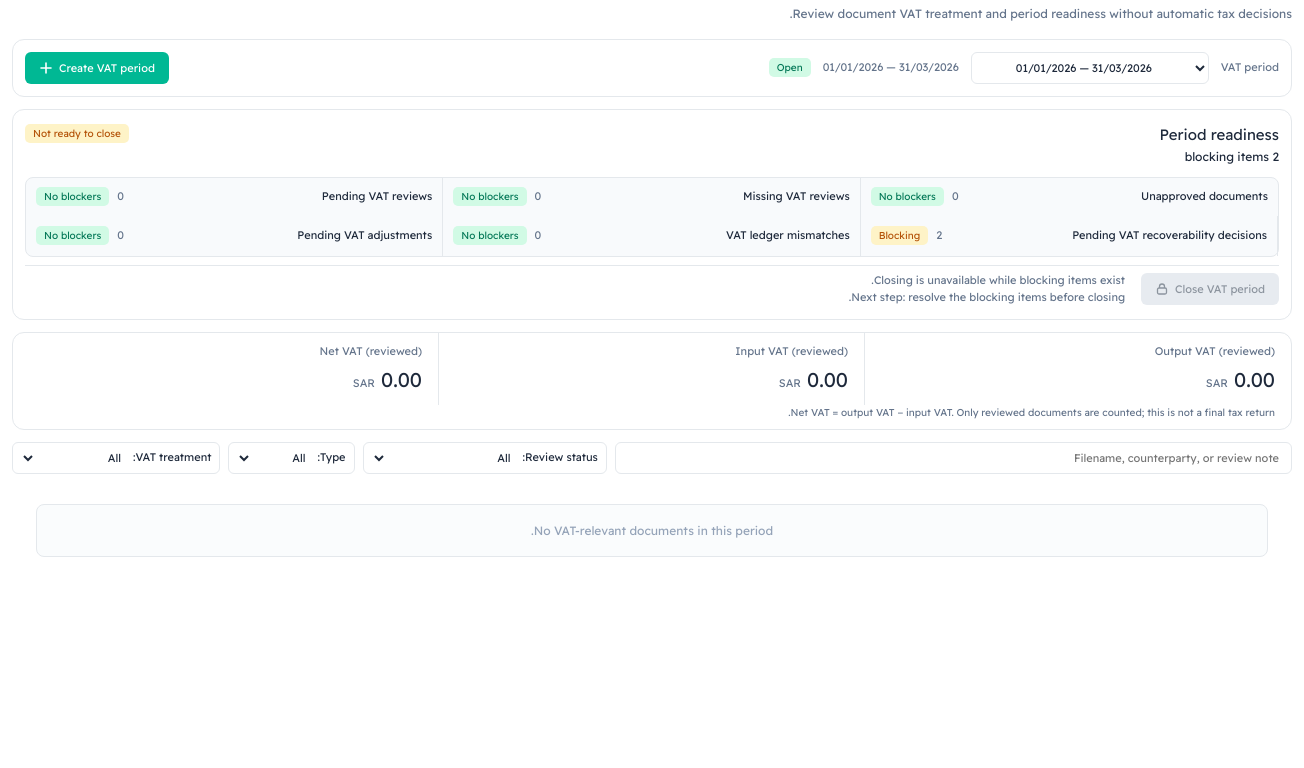
Test case: VAT review workspace › does not auto-select a document when several are pending recoverability
The width and height of the screenshot is (1304, 768).
Click the button "Pending VAT recoverability decisions" at (1109, 236), box [950,216,1267,256]
(page scrolled)
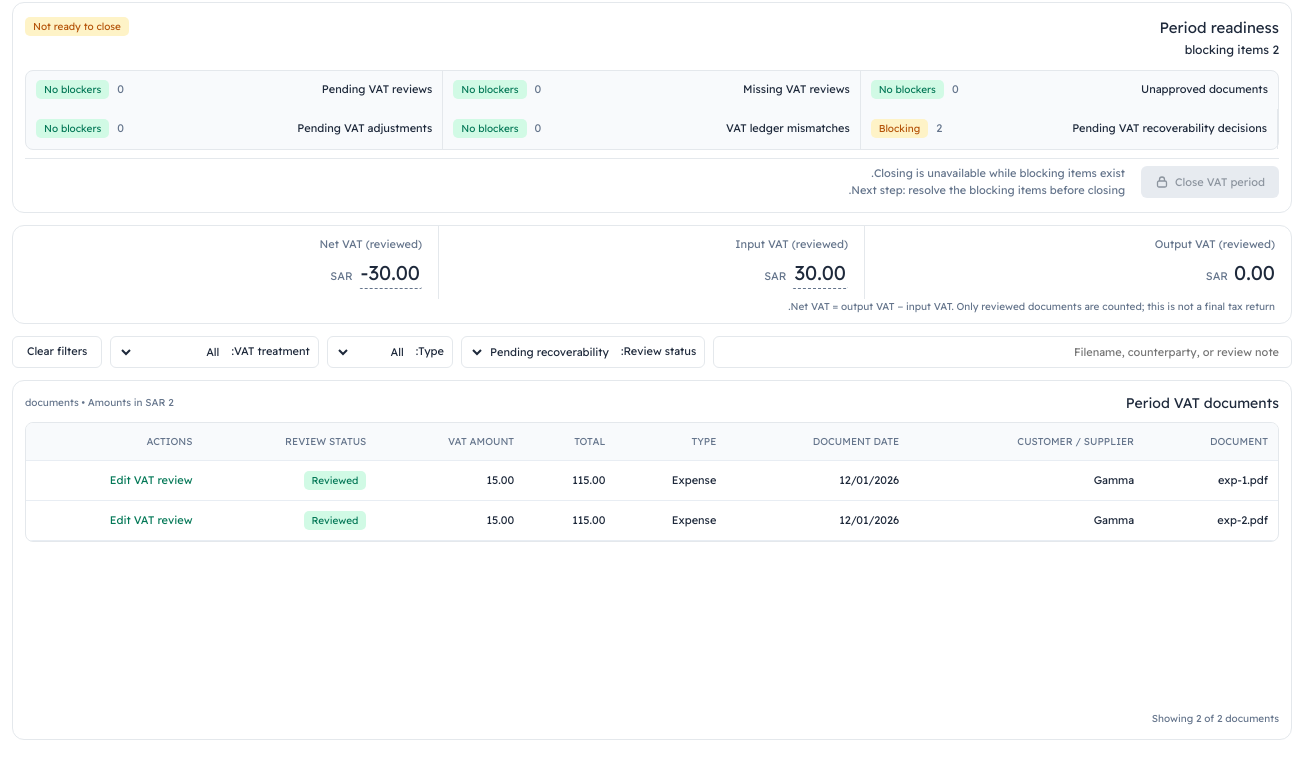
Now the cell "exp-1.pdf" is shown, box [1144,461,1278,501]
Now the cell "exp-2.pdf" is shown, box [1144,501,1278,541]
